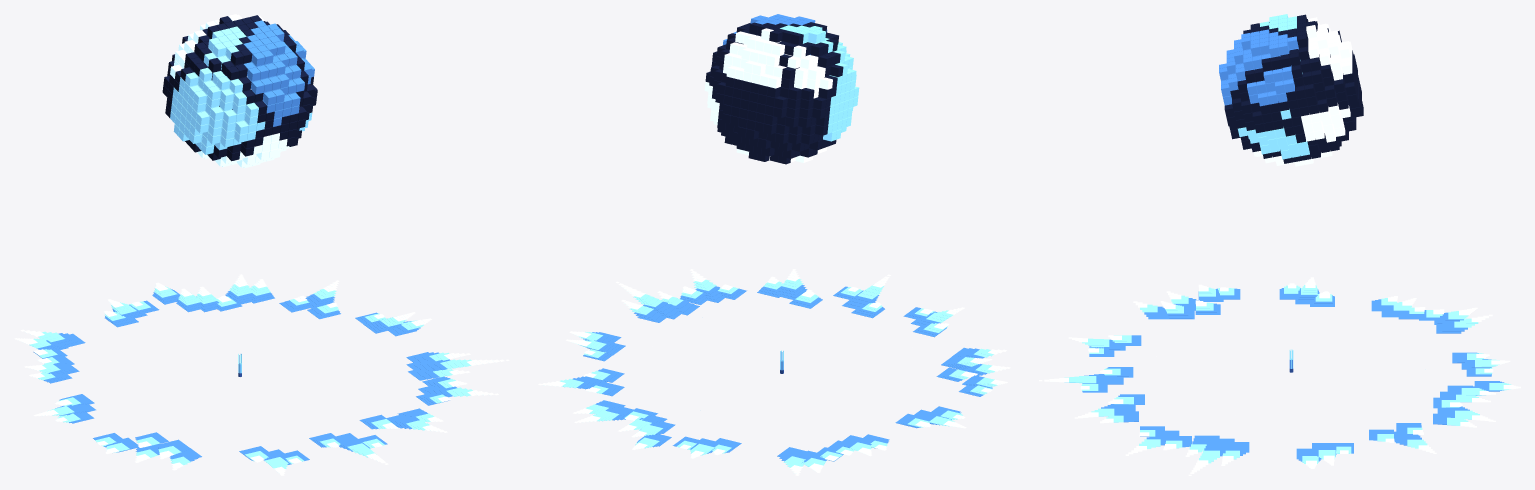
Rendered from winter_eclipse.glb.
3 views of the same model, side by side, from view 1: azimuth 30°, elevation 25°; view 2: azimuth 150°, elevation 25°; view 3: azimuth 270°, elevation 25° (orthographic).
Parts seen in each view (by area): view 1: MoonPlate_00, MoonPlate_08, MoonPlate_10, MoonPlate_09, Spikes_14, Spikes_12, Spikes_01, Spikes_02, Spikes_11, Spikes_03, Spikes_13, Spikes_05 (+9 smaller); view 2: MoonPlate_12, MoonPlate_11, MoonPlate_07, MoonPlate_00, MoonPlate_06, Spikes_14, MoonPlate_10, Spikes_12, Spikes_11, Spikes_13, Spikes_01, Spikes_09 (+11 smaller); view 3: MoonPlate_08, MoonPlate_03, MoonPlate_01, MoonPlate_02, MoonPlate_11, Spikes_14, MoonPlate_04, Spikes_09, Spikes_12, Spikes_11, Spikes_05, Spikes_01 (+13 smaller).
Boxes of the visible parts, x1=… form: MoonPlate_00: x1=166, y1=62, x2=266, y2=157; MoonPlate_08: x1=235, y1=20, x2=308, y2=128; MoonPlate_10: x1=189, y1=19, x2=250, y2=74; MoonPlate_09: x1=197, y1=109, x2=298, y2=168; Spikes_14: x1=406, y1=352, x2=509, y2=380; Spikes_12: x1=359, y1=408, x2=447, y2=432; Spikes_01: x1=279, y1=280, x2=340, y2=319; Spikes_02: x1=215, y1=274, x2=274, y2=311; Spikes_11: x1=309, y1=433, x2=388, y2=464; Spikes_03: x1=152, y1=282, x2=218, y2=312; Spikes_13: x1=416, y1=376, x2=498, y2=405; Spikes_05: x1=14, y1=329, x2=85, y2=358; MoonPlate_12: x1=733, y1=87, x2=828, y2=161; MoonPlate_11: x1=722, y1=22, x2=794, y2=91; MoonPlate_07: x1=715, y1=82, x2=792, y2=138; MoonPlate_00: x1=816, y1=33, x2=859, y2=148; MoonPlate_06: x1=785, y1=43, x2=832, y2=109; Spikes_14: x1=616, y1=281, x2=699, y2=322; MoonPlate_10: x1=767, y1=23, x2=837, y2=65; Spikes_12: x1=757, y1=269, x2=822, y2=308; Spikes_11: x1=833, y1=274, x2=890, y2=318; Spikes_13: x1=680, y1=269, x2=746, y2=304; Spikes_01: x1=538, y1=368, x2=624, y2=396; Spikes_09: x1=941, y1=347, x2=1010, y2=375; MoonPlate_08: x1=1219, y1=27, x2=1300, y2=105; MoonPlate_03: x1=1232, y1=52, x2=1311, y2=124; MoonPlate_01: x1=1291, y1=79, x2=1354, y2=151; MoonPlate_02: x1=1224, y1=105, x2=1330, y2=163; MoonPlate_11: x1=1297, y1=21, x2=1354, y2=86; Spikes_14: x1=1185, y1=435, x2=1249, y2=475; MoonPlate_04: x1=1288, y1=58, x2=1333, y2=117; Spikes_09: x1=1133, y1=291, x2=1198, y2=319; Spikes_12: x1=1074, y1=394, x2=1144, y2=423; Spikes_11: x1=1039, y1=367, x2=1133, y2=392; Spikes_05: x1=1419, y1=307, x2=1492, y2=333; Spikes_01: x1=1369, y1=423, x2=1436, y2=453.
Size of the model in its own units: 13.91 by 11.34 by 14.24.
